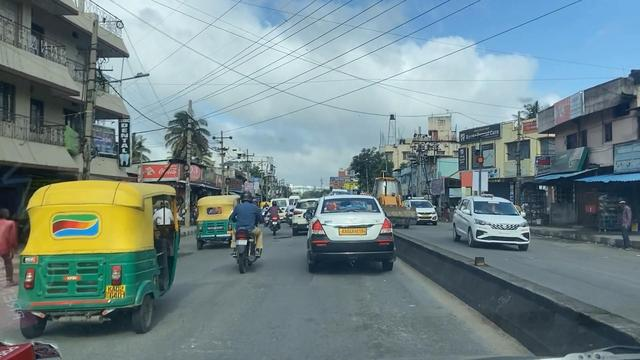LMV: (25, 175, 177, 333), (309, 196, 393, 268), (227, 189, 260, 271)
